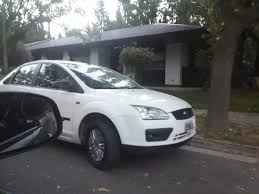car: (1, 59, 198, 167)
